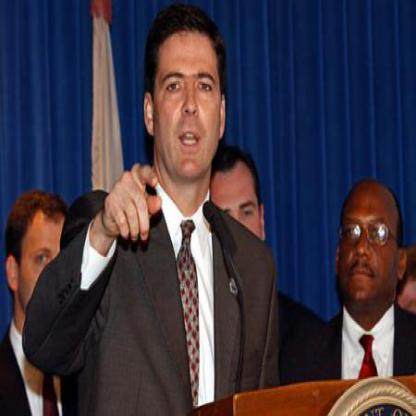face: (154, 13, 224, 182), (338, 178, 401, 308), (18, 199, 79, 331), (210, 153, 264, 285)
